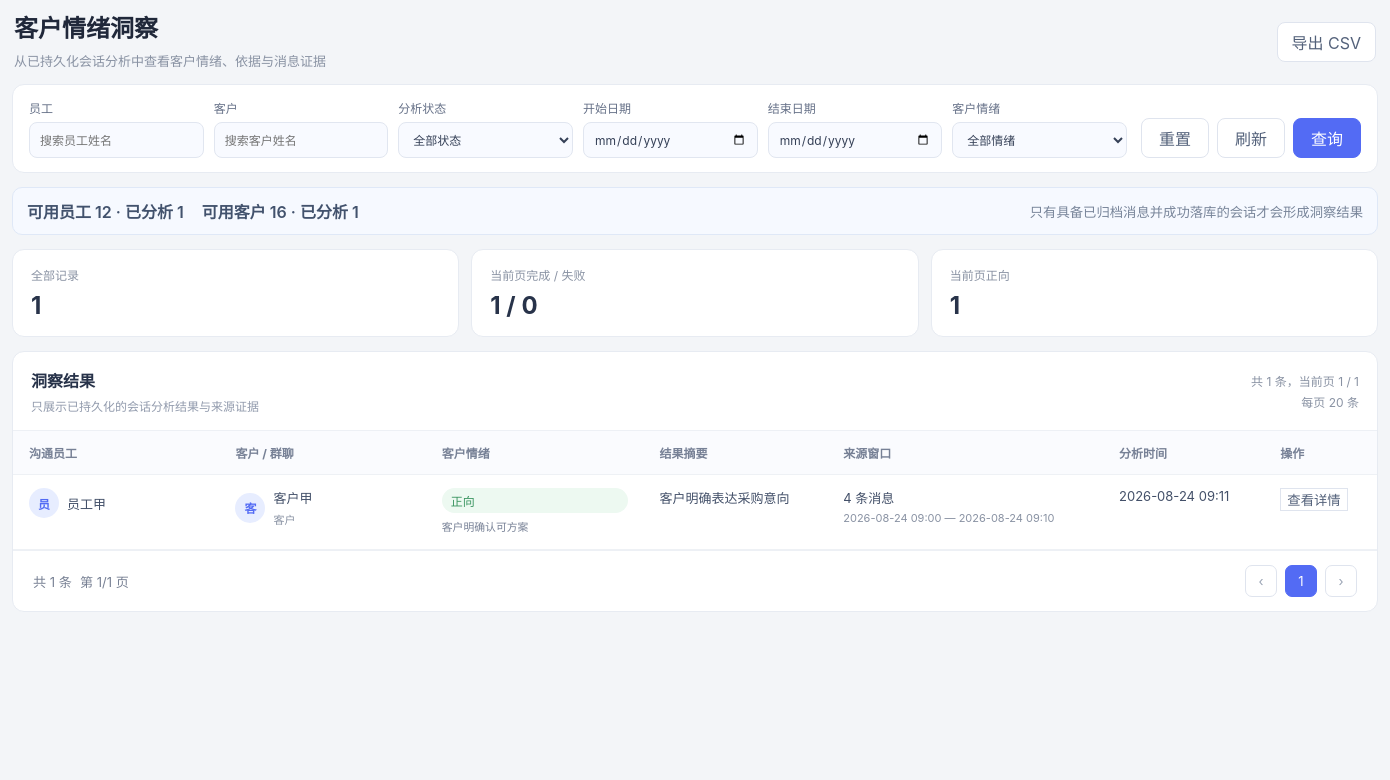
it: 三个 AI 洞察专用投影页面 › 展示权威目录覆盖并用客户 ID 精确查询
Later steps or results of the test are not shown.
Expected: the text "可用员工 12 · 已分析 1" is shown, [27,199,184,223]
Expected: the text "可用客户 16 · 已分析 1" is shown, [202,199,359,223]
Type "客户" into the dropdown labelled "客户" at (301, 140), box [214,122,388,158]
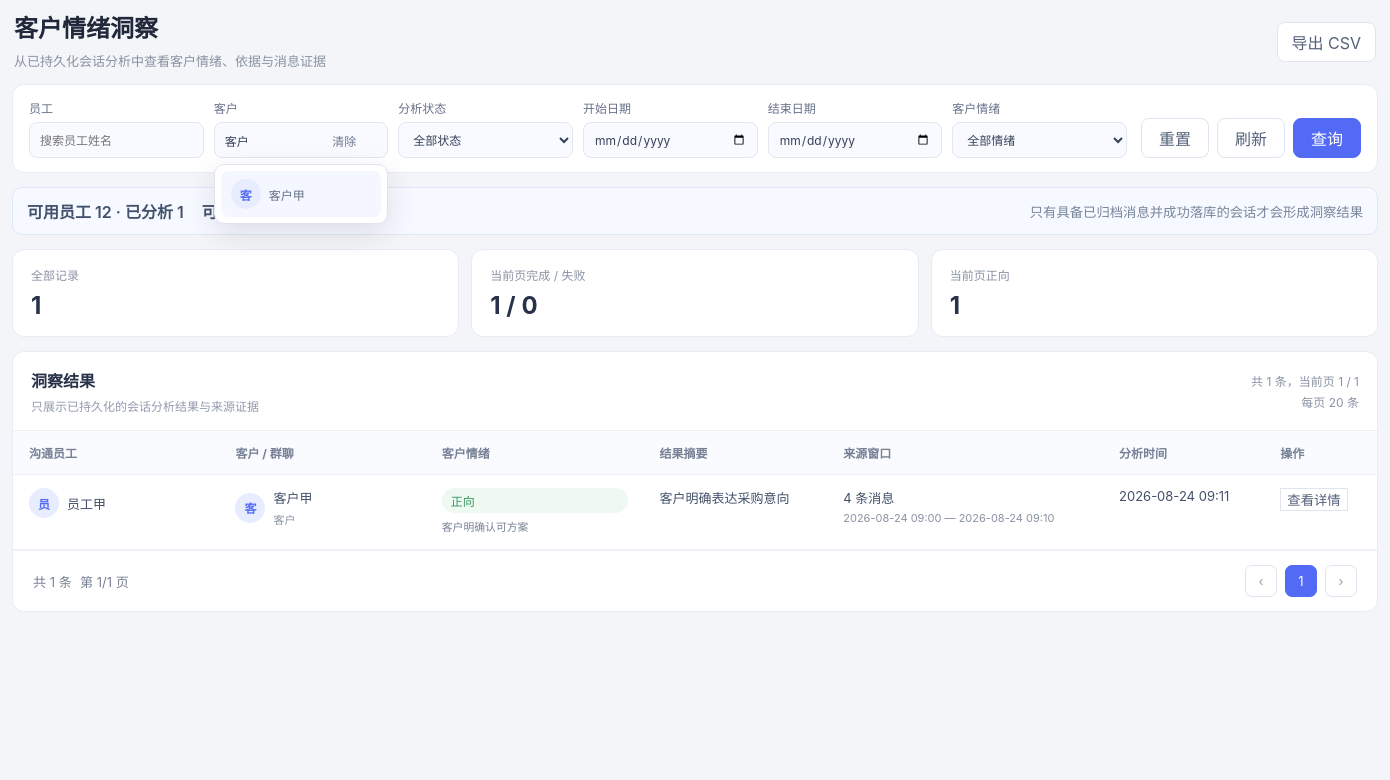
Now the option "客 客户甲" is shown
Press the mouse on the option "客 客户甲" at (301, 194), box [221,171,381,217]
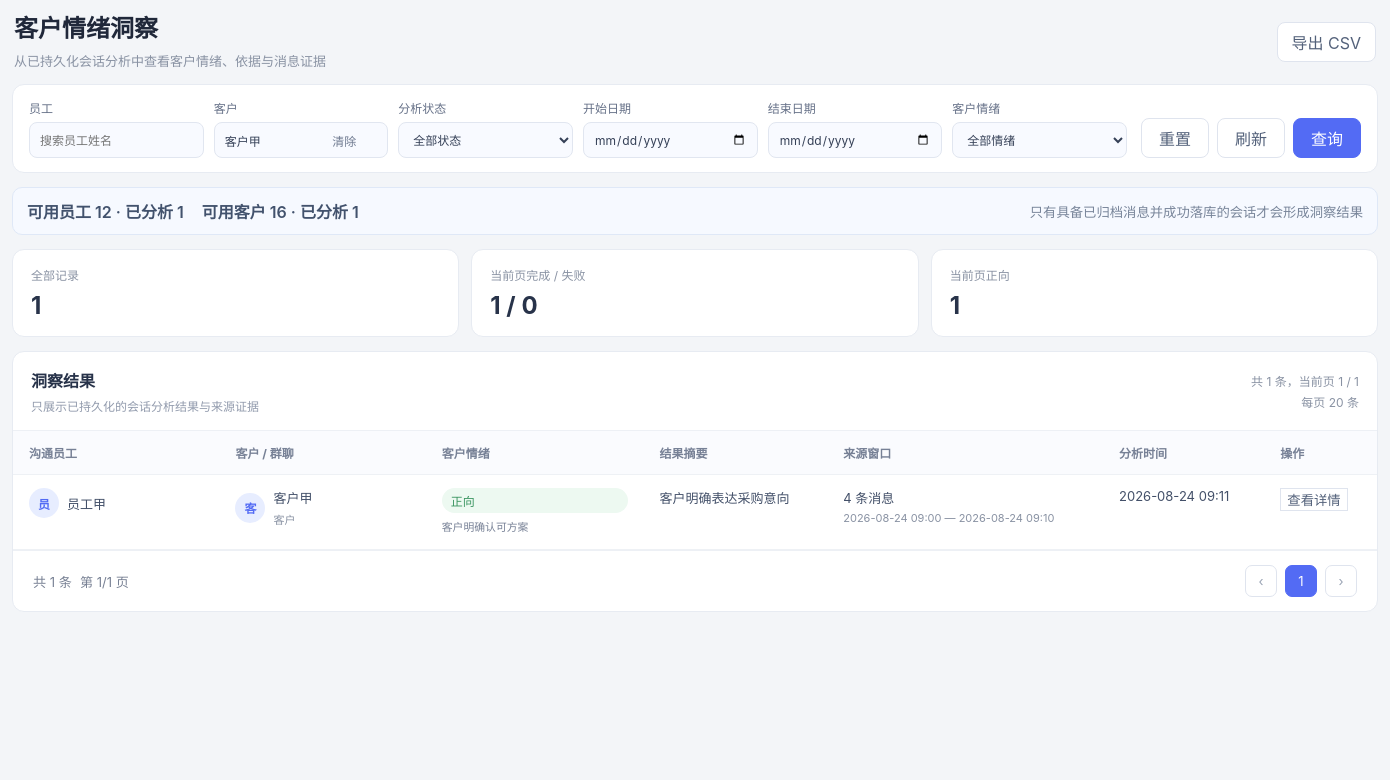
Now the dropdown labelled "客户" holds "客户甲", box [214,122,388,158]
